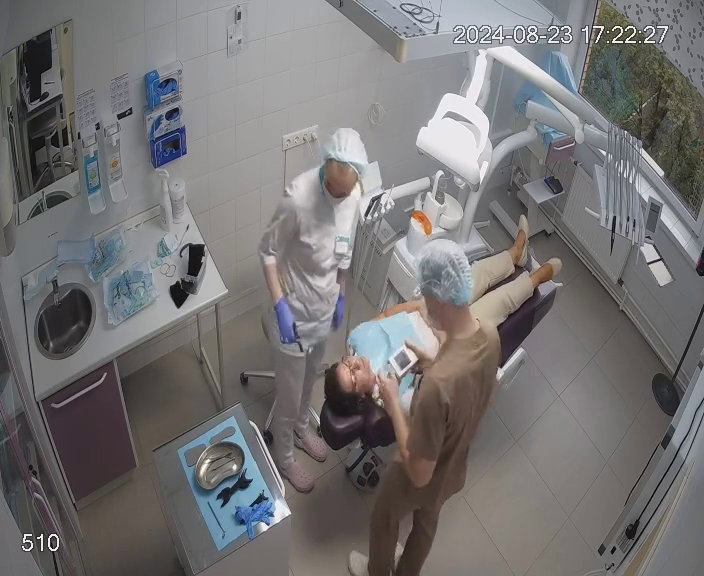Patient: (314, 213, 563, 450)
